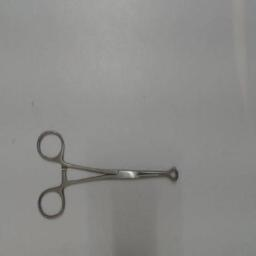Babcock Tissue Forceps: (35, 124, 181, 222)
